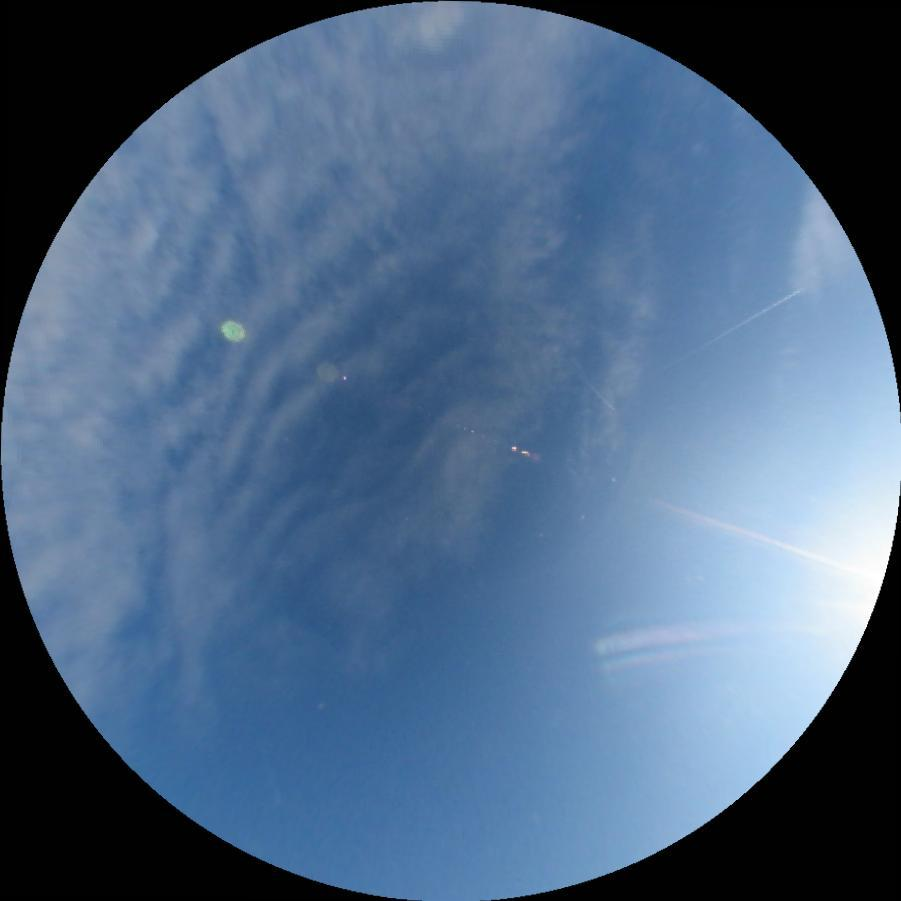contrail young: (663, 286, 802, 369), (579, 375, 615, 411), (264, 755, 281, 802)
parasite: (654, 498, 831, 563), (592, 614, 763, 655)
